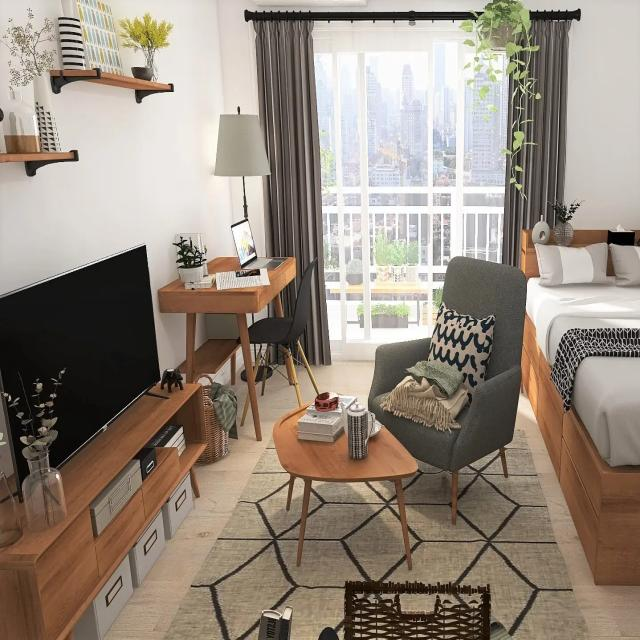modern bed: (517, 201, 640, 588)
modern chair: (369, 254, 522, 523)
modern desk: (161, 234, 300, 436), (266, 401, 424, 547)
